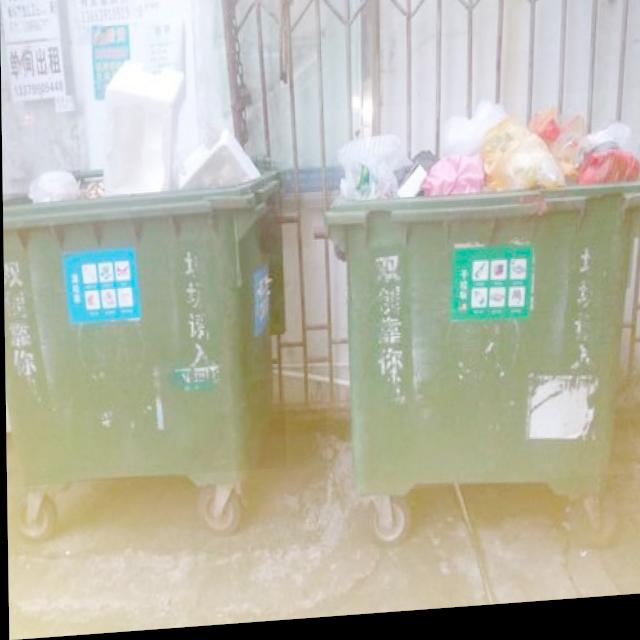overflow: (322, 98, 640, 500), (1, 54, 285, 488)
